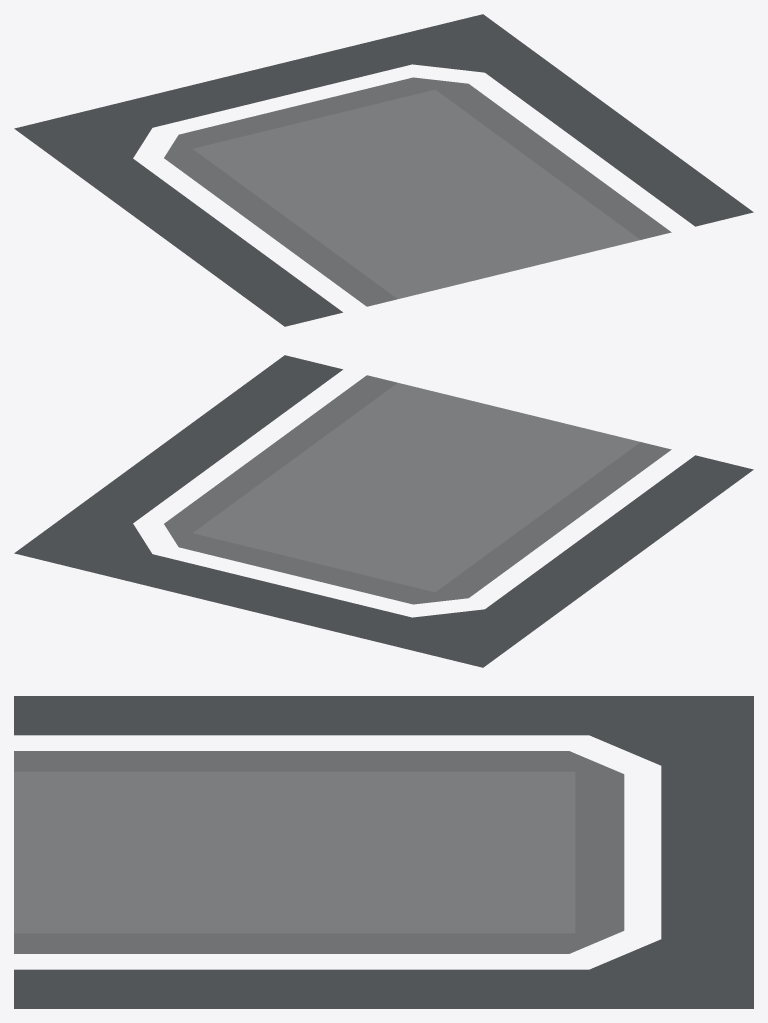
Rendered from Ceiling_type_B_031.glb.
3 views of the same model, one above another, from view 1: azimuth 30°, elevation 25°; view 2: azimuth 150°, elevation 25°; view 3: azimuth 270°, elevation 25° (orthographic). The views are drawn at different scales.
Visible parts, largest first — view 1: Ceiling_type_B_031; view 2: Ceiling_type_B_031; view 3: Ceiling_type_B_031.
Boxes of the visible parts, x1,y1,x2,y2 form: Ceiling_type_B_031: (14, 14, 753, 326); Ceiling_type_B_031: (14, 355, 753, 667); Ceiling_type_B_031: (14, 696, 753, 1008).
Bounding box in the file's own units: 4 × 0.0618 × 4.
2 materials, 2 textured.
